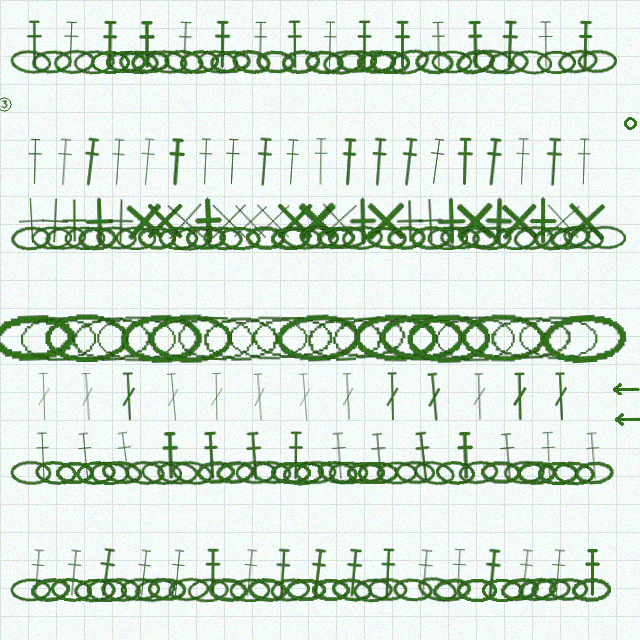chain: (540, 311, 627, 365), (327, 310, 411, 365), (275, 312, 362, 364), (68, 312, 153, 364), (303, 312, 387, 364), (487, 313, 573, 363), (174, 312, 258, 363), (94, 313, 179, 363), (119, 313, 204, 363), (433, 313, 518, 363), (460, 313, 545, 363), (44, 313, 130, 362), (379, 313, 465, 362), (148, 313, 232, 363), (353, 313, 437, 363), (406, 313, 490, 363), (249, 313, 334, 362), (17, 313, 100, 363), (226, 313, 309, 363), (516, 313, 599, 363), (200, 313, 282, 363), (0, 312, 75, 364), (387, 45, 432, 78), (415, 573, 460, 606), (453, 46, 497, 77), (455, 222, 499, 253), (321, 47, 366, 77), (170, 223, 215, 253), (548, 223, 592, 253), (170, 458, 214, 488), (412, 458, 456, 488), (133, 575, 177, 605), (556, 47, 600, 76), (561, 223, 605, 252), (315, 458, 359, 487), (162, 47, 205, 76), (230, 47, 273, 76), (471, 47, 514, 76), (100, 458, 143, 487), (516, 575, 559, 604), (145, 48, 189, 76), (281, 459, 325, 487), (512, 223, 554, 252), (499, 575, 541, 604), (9, 48, 52, 76), (196, 48, 239, 76), (510, 48, 553, 76), (44, 224, 87, 252), (280, 224, 323, 252), (330, 576, 373, 604), (49, 576, 93, 603), (269, 576, 311, 604), (431, 576, 473, 604), (53, 48, 96, 75), (178, 48, 221, 75), (341, 224, 384, 251), (34, 459, 77, 486), (140, 459, 183, 486), (250, 459, 293, 486), (434, 459, 477, 486), (457, 459, 500, 486), (167, 576, 210, 603), (280, 48, 322, 75), (75, 459, 117, 486), (29, 576, 71, 603), (100, 576, 142, 603), (246, 576, 288, 603), (530, 576, 572, 603), (218, 225, 261, 251), (552, 460, 595, 486), (73, 577, 116, 603), (124, 459, 165, 486), (215, 459, 256, 486), (207, 576, 248, 603), (31, 49, 73, 75), (73, 49, 115, 75), (118, 49, 160, 75), (209, 49, 251, 75), (10, 225, 52, 251), (95, 225, 137, 251), (365, 225, 407, 251), (439, 225, 481, 251), (156, 460, 198, 486), (187, 577, 229, 603), (392, 577, 434, 603), (130, 49, 171, 75), (255, 49, 296, 75), (304, 49, 345, 75), (414, 49, 455, 75), (488, 49, 529, 75), (77, 225, 118, 251), (202, 225, 243, 251), (471, 225, 512, 251), (533, 225, 574, 251), (574, 460, 615, 486), (352, 577, 393, 603), (10, 460, 52, 485), (235, 460, 277, 485), (295, 460, 337, 485), (503, 460, 545, 485), (336, 49, 377, 74), (185, 225, 226, 250), (327, 225, 368, 250), (386, 225, 427, 250), (410, 225, 451, 250), (585, 225, 626, 250), (480, 460, 521, 485), (367, 577, 408, 602), (548, 577, 589, 602), (431, 50, 473, 74), (64, 226, 106, 250), (495, 226, 537, 250), (229, 578, 271, 602), (481, 578, 523, 602), (356, 49, 396, 74), (577, 49, 617, 74), (137, 225, 177, 250), (245, 225, 285, 250), (299, 225, 339, 250), (196, 460, 236, 485), (395, 460, 435, 485), (516, 460, 556, 485), (120, 577, 160, 602), (147, 577, 187, 602), (571, 577, 611, 602), (90, 50, 131, 74), (105, 50, 146, 74), (369, 50, 410, 74), (31, 226, 72, 250), (115, 226, 156, 250), (158, 226, 199, 250), (427, 226, 468, 250), (89, 461, 130, 485), (270, 461, 311, 485), (328, 461, 369, 485), (357, 461, 398, 485), (376, 461, 417, 485), (537, 461, 578, 485), (10, 578, 51, 602), (86, 578, 127, 602), (285, 578, 326, 602), (456, 578, 497, 602), (536, 50, 576, 74), (270, 226, 310, 250), (316, 226, 356, 250), (55, 461, 95, 485), (346, 461, 386, 485), (311, 578, 351, 602)
double: (163, 372, 183, 422), (295, 372, 315, 422), (424, 372, 444, 422), (250, 372, 269, 422), (78, 372, 97, 421), (119, 372, 138, 421), (35, 372, 53, 421), (339, 372, 357, 421), (470, 372, 488, 421), (552, 372, 570, 421), (208, 372, 225, 421), (384, 372, 401, 421), (511, 372, 528, 421)
half_double: (424, 136, 449, 187), (113, 430, 138, 481), (94, 547, 119, 598), (79, 137, 103, 187), (397, 137, 421, 187), (481, 137, 505, 187), (411, 431, 435, 481), (306, 548, 330, 598), (480, 548, 504, 598), (513, 548, 537, 598), (136, 137, 159, 187), (74, 431, 97, 481), (367, 431, 390, 481), (496, 431, 519, 481), (62, 548, 85, 598), (132, 548, 155, 598), (166, 548, 189, 598), (238, 548, 261, 598), (342, 548, 365, 598), (413, 548, 436, 598), (53, 137, 75, 187), (165, 137, 187, 187), (253, 137, 275, 187), (243, 431, 265, 481), (328, 431, 350, 481), (582, 431, 604, 481), (26, 548, 48, 598), (547, 548, 569, 598), (107, 137, 128, 187), (281, 137, 302, 187), (338, 137, 359, 187), (368, 137, 389, 187), (543, 137, 564, 187), (272, 548, 293, 598), (174, 20, 195, 69), (222, 137, 243, 186), (512, 137, 533, 186), (538, 431, 559, 480), (377, 548, 398, 597), (448, 548, 469, 597), (61, 20, 81, 69), (250, 20, 270, 69), (428, 20, 448, 69), (465, 20, 485, 69), (500, 20, 520, 69), (25, 137, 45, 186), (195, 137, 215, 186), (455, 137, 475, 186), (160, 431, 180, 480), (201, 431, 221, 480), (455, 431, 475, 480), (25, 20, 44, 69), (100, 20, 119, 69), (137, 20, 156, 69), (213, 20, 232, 69), (285, 20, 304, 69), (320, 20, 339, 69), (355, 20, 374, 69), (393, 20, 412, 69), (536, 20, 555, 69), (311, 137, 330, 186), (574, 137, 593, 186), (33, 431, 52, 480), (286, 431, 305, 480), (203, 548, 222, 597), (576, 20, 594, 69), (583, 548, 601, 597)
noise: (612, 412, 640, 426), (610, 383, 640, 395), (622, 115, 639, 132), (0, 95, 13, 113)
single: (118, 195, 170, 247), (29, 195, 80, 246), (159, 195, 210, 246), (183, 195, 234, 246), (313, 195, 364, 246), (405, 195, 456, 246), (449, 195, 500, 246), (537, 195, 588, 246), (6, 195, 56, 246), (74, 196, 124, 246), (96, 196, 146, 246), (225, 196, 275, 246), (338, 196, 388, 246), (385, 196, 435, 246), (426, 196, 476, 246), (474, 196, 524, 246), (494, 196, 544, 246), (561, 196, 611, 246), (50, 196, 99, 245), (140, 196, 189, 245), (204, 196, 253, 245), (248, 196, 297, 245), (270, 196, 319, 245), (292, 196, 341, 245), (361, 196, 410, 245), (518, 196, 567, 245)
